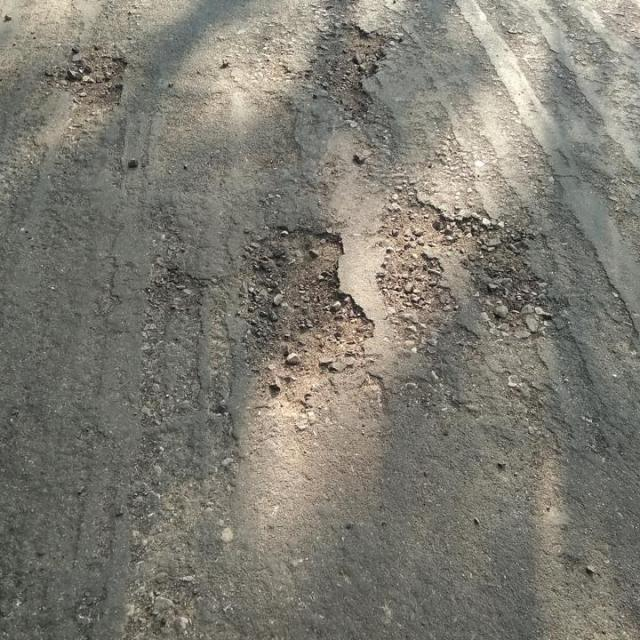pothole: (234, 221, 378, 415), (450, 212, 558, 332), (374, 196, 459, 340), (302, 23, 398, 124), (42, 52, 132, 111)
